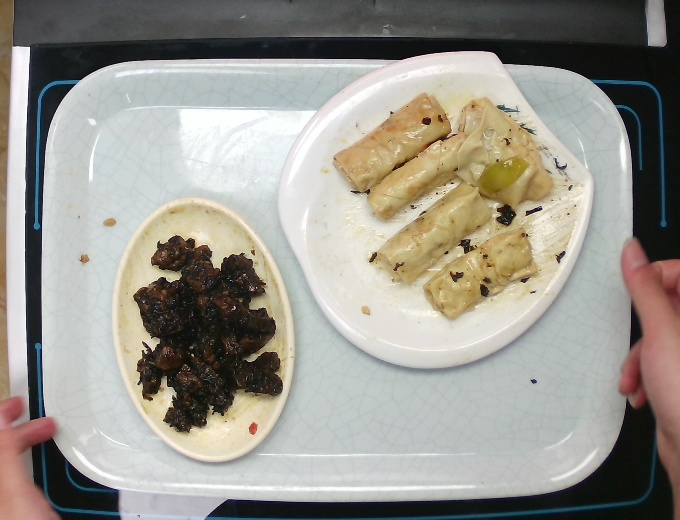JYsf-Mian_Pan: (273, 48, 597, 372)
JYsf-Tuo_Yuan_Wan: (108, 195, 296, 465)
